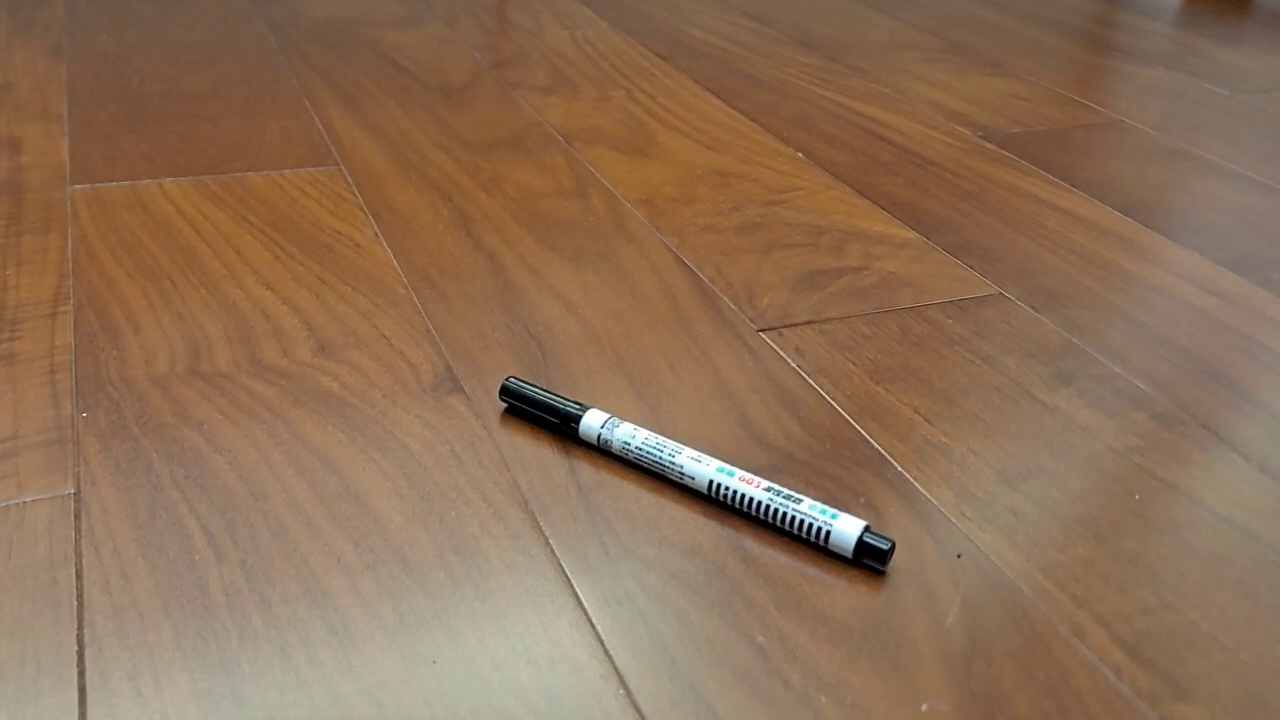pen: (498, 375, 897, 569)
